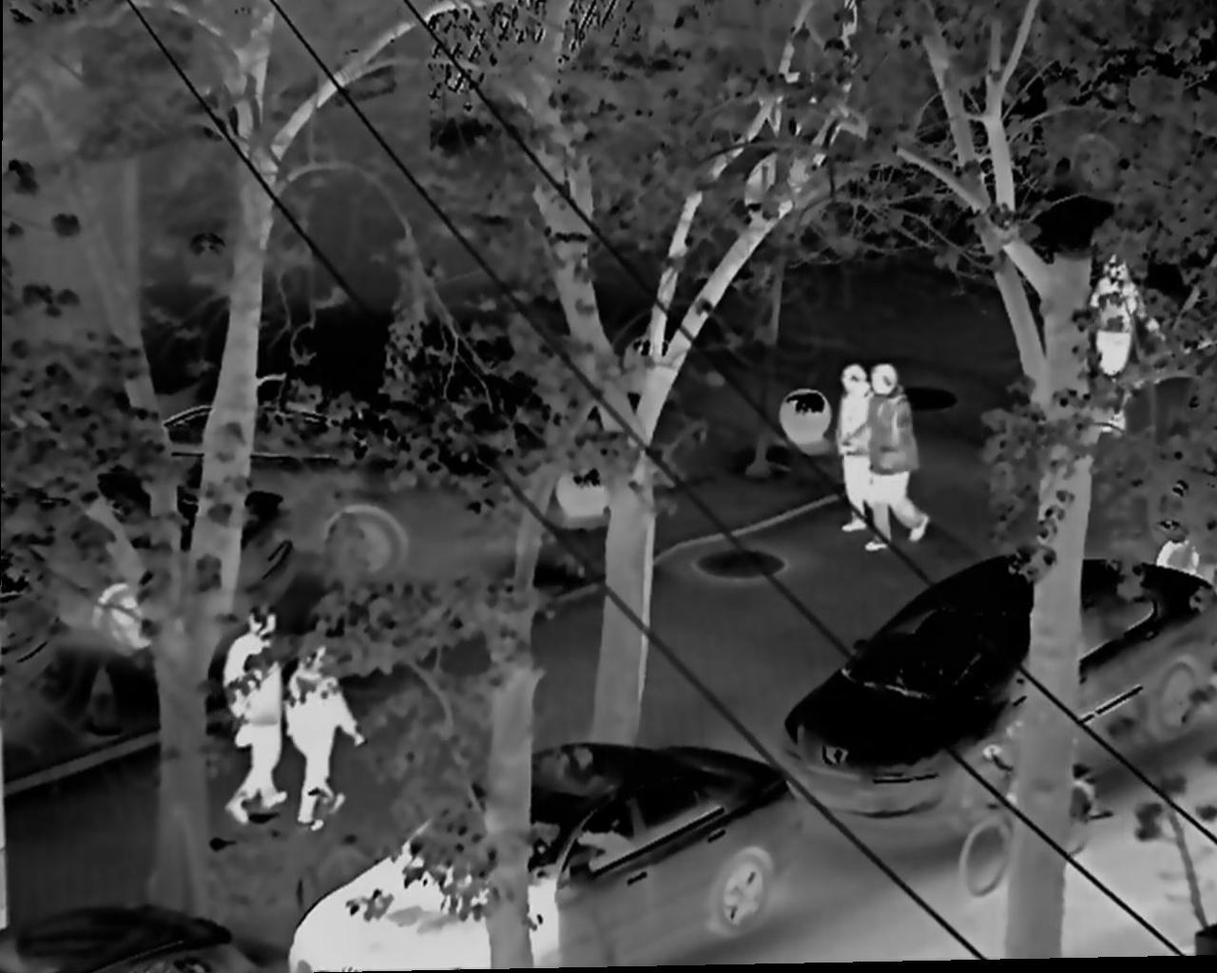person: (851, 363, 937, 558), (222, 604, 292, 836), (285, 640, 357, 843), (1092, 246, 1167, 426), (825, 352, 875, 535)
